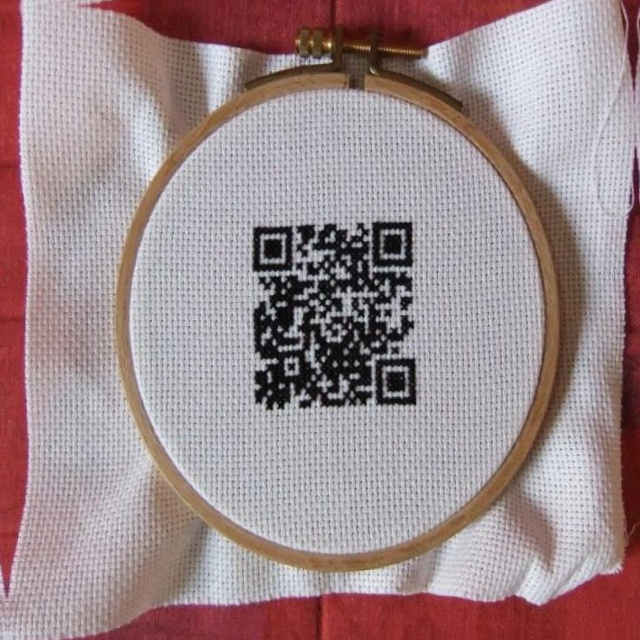qr-code: (251, 220, 417, 409)
